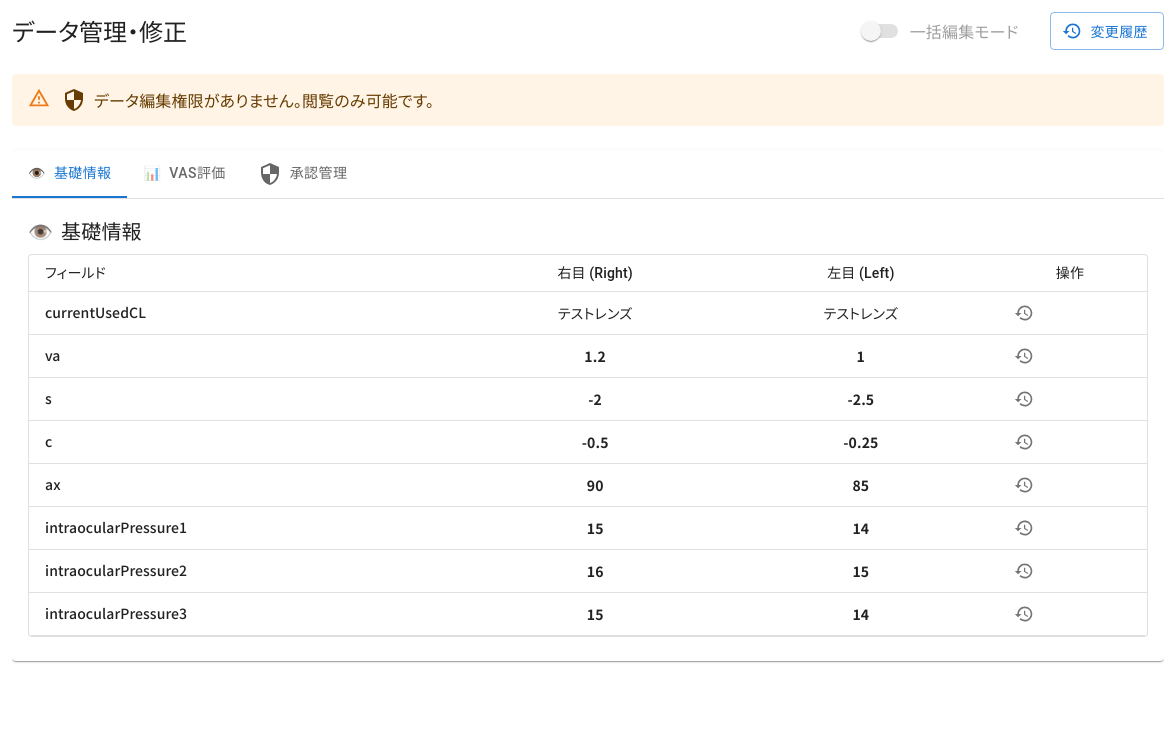
Test: DataCorrectionInterface › should switch between examination tabs correctly
The image size is (1176, 732).
Click on VAS tab
Click the tab "📊 VAS評価": (185, 174) [128,150,242,198]
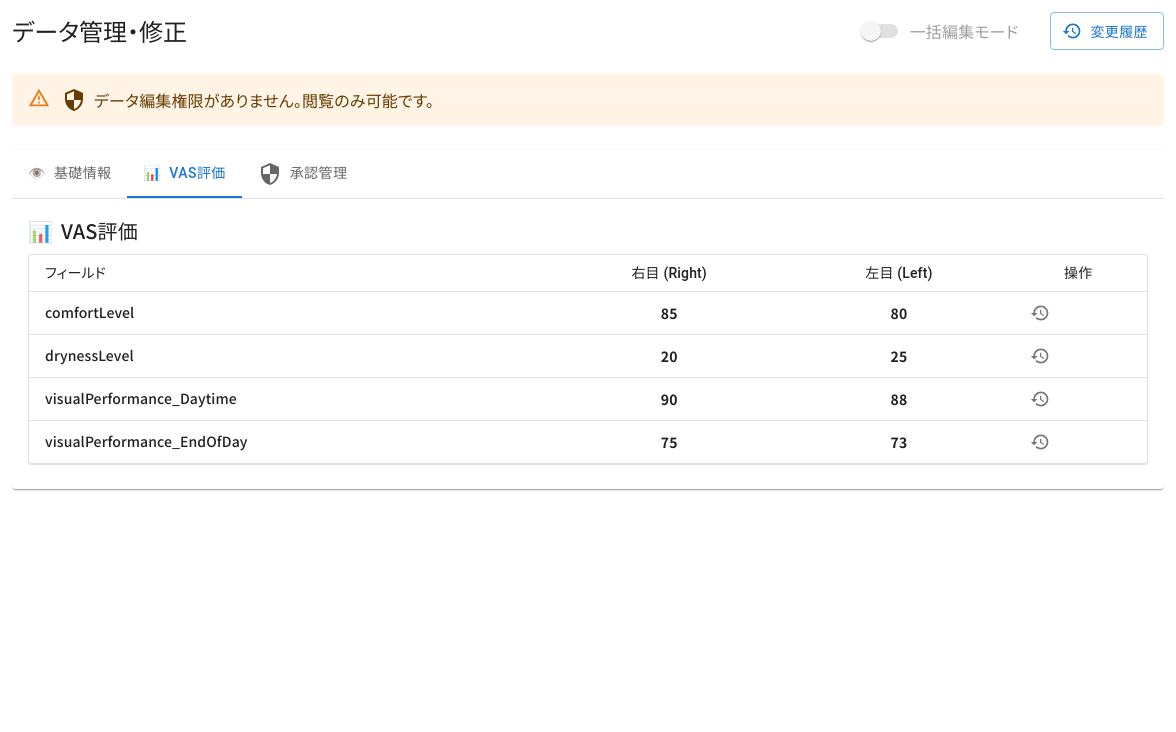
Check: the heading "comfortLevel" is shown, box [45,302,134,322]
Check: the heading "drynessLevel" is shown, box [45,345,134,365]
